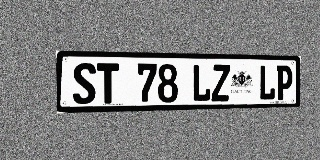7: (136, 64, 157, 103)
8: (158, 64, 178, 103)
L: (192, 64, 211, 102), (258, 65, 276, 100)
P: (276, 65, 293, 100)
S: (73, 63, 96, 104)
T: (97, 63, 119, 104)
Z: (211, 64, 230, 101)
